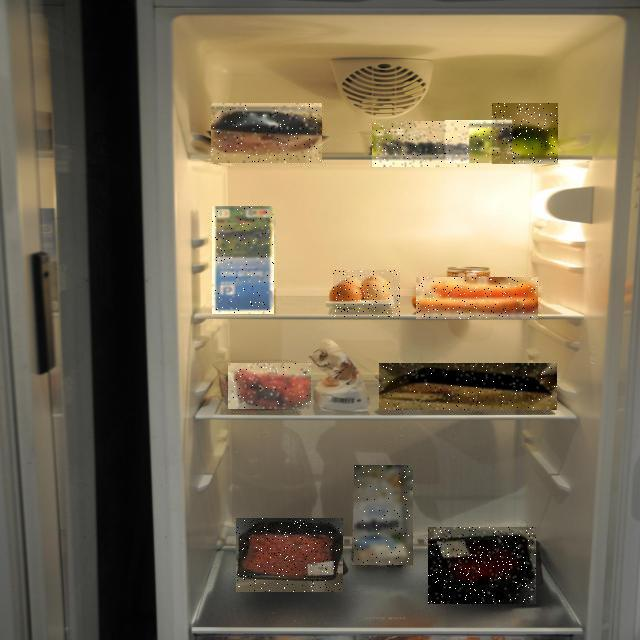Apple: (492, 103, 558, 164), (445, 120, 512, 163)
Carrot: (416, 277, 538, 319)
Eggs: (333, 270, 400, 317)
Meat: (379, 363, 557, 410), (428, 527, 536, 604), (236, 518, 343, 592), (211, 103, 322, 163)
Milk: (212, 206, 274, 314), (354, 465, 413, 565)
Olives: (372, 121, 469, 167)
Tomatoes: (228, 363, 311, 409)
